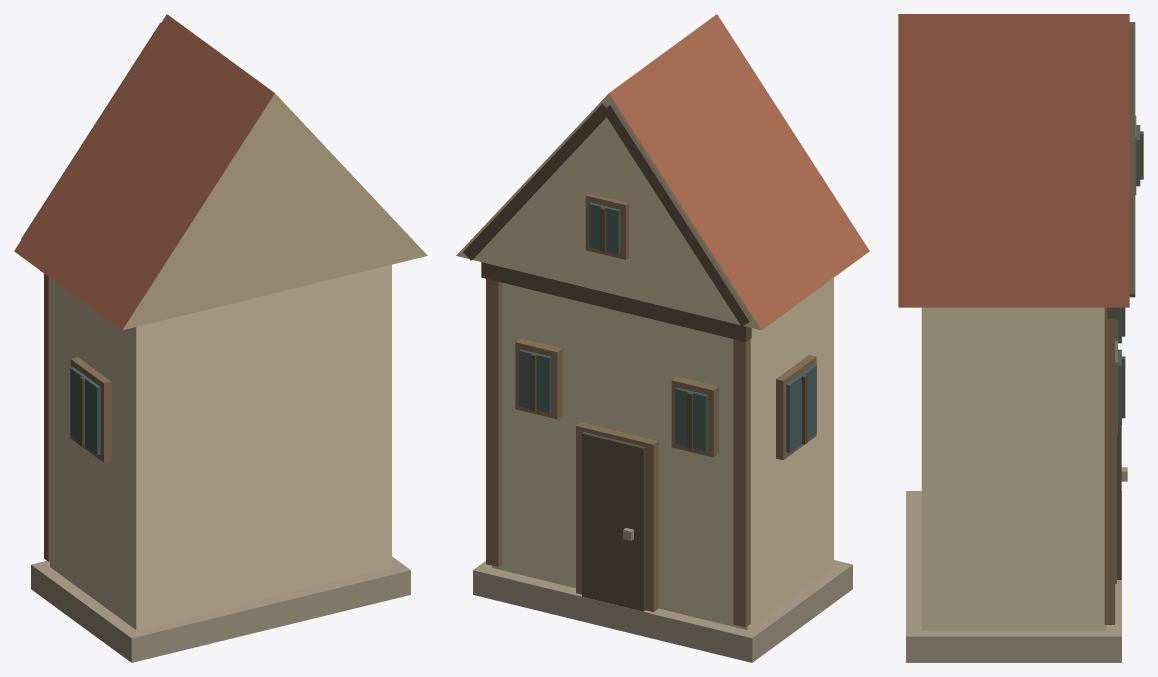
Rendered from Building_House.fbx.
3 renders of one model, left to right at view 1: azimuth 30°, elevation 25°; view 2: azimuth 150°, elevation 25°; view 3: azimuth 270°, elevation 25°, orthographic. The views are drawn at different scales.
Visible parts, largest first — view 1: Building_House_Probe; view 2: Building_House_Probe; view 3: Building_House_Probe.
Boxes of the visible parts, <box> form: Building_House_Probe: <box>14,14,427,662</box>; Building_House_Probe: <box>456,14,869,662</box>; Building_House_Probe: <box>898,14,1143,662</box>.
Size of the model in its own units: 1.04 by 1.75 by 0.676.
